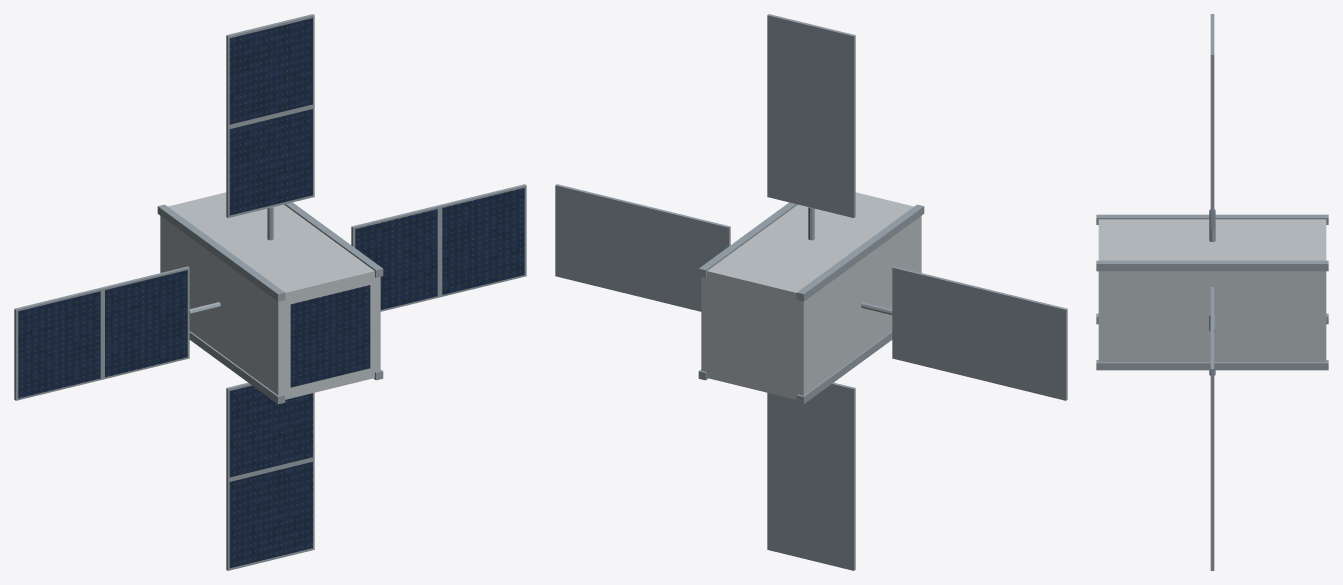
File: ref-cubesat-2u-38762.glb
The picture shows the model from 3 angles, left to right: view 1: azimuth 30°, elevation 25°; view 2: azimuth 150°, elevation 25°; view 3: azimuth 270°, elevation 25°; orthographic projection. The views are drawn at different scales.
Visible parts, largest first — view 1: Photovoltaic laminates (×8), Spacecraft body, Array frame (×8), Body-mounted cells, Dispenser rail (×3); view 2: Array frame (×8), Spacecraft body, Dispenser rail (×3); view 3: Spacecraft body, Dispenser rail (×3), Array frame (×4).
Part boxes in pixels (x1,y1,x2,y2): Photovoltaic laminates (×8): (18, 18, 524, 568); Spacecraft body: (160, 192, 380, 399); Array frame (×8): (14, 14, 526, 570); Body-mounted cells: (290, 285, 370, 387); Dispenser rail (×3): (157, 202, 383, 404); Array frame (×8): (555, 14, 1067, 570); Spacecraft body: (701, 192, 921, 399); Dispenser rail (×3): (698, 202, 924, 404); Spacecraft body: (1098, 219, 1326, 362); Dispenser rail (×3): (1096, 214, 1328, 370); Array frame (×4): (1210, 14, 1214, 570).
Size of the model in its own units: 0.5 by 0.5 by 0.204.
3 materials, 1 textured.
